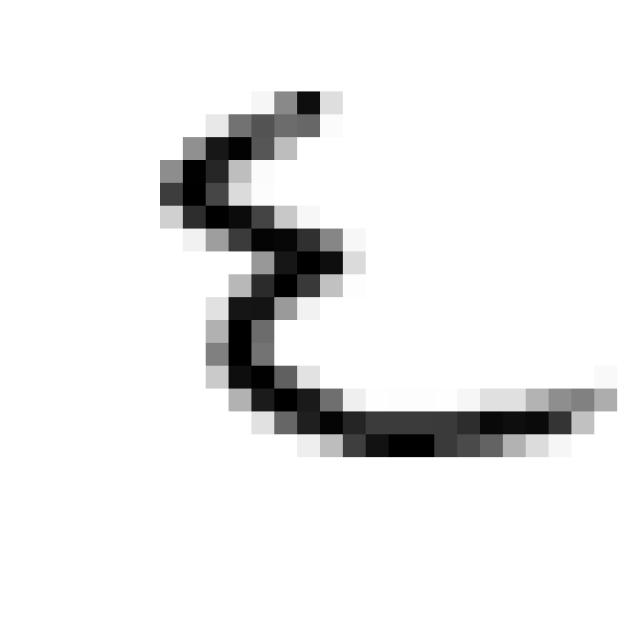4 -four-: (142, 73, 628, 465)
